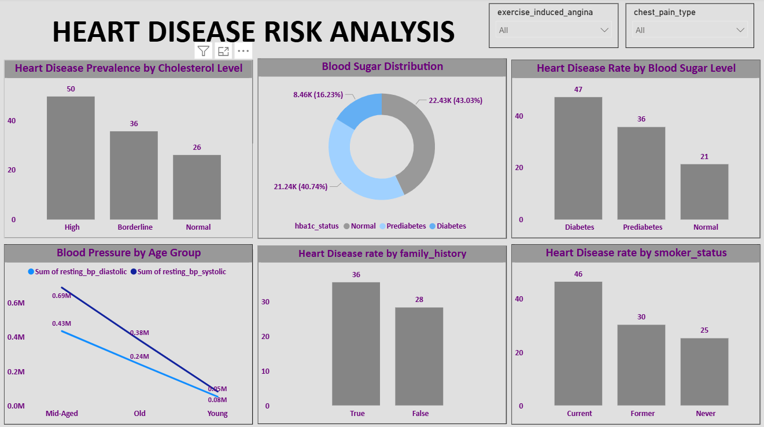

The page's visual inventory and layout, read from the dashboard file:
{"tool":"powerbi","page":{"name":"Page 2","canvas":[1280,720],"ordinal":1},"visuals":[{"type":"donutChart","title":"Blood Sugar Distribution","fields":{"Category":["heart_disease_risk_2026_clean.hba1c_status"],"Y":["Sum(heart_disease_risk_2026_clean.hba1c)"]},"box":[431.9,100.1,415,300.4],"z":0},{"type":"lineChart","title":"Blood Pressure by Age Group","fields":{"Category":["heart_disease_risk_2026_clean.age_group"],"Y":["Sum(heart_disease_risk_2026_clean.resting_bp_diastolic)","Sum(heart_disease_risk_2026_clean.resting_bp_systolic)"]},"box":[8.4,410.2,415,300.4],"z":1000},{"type":"clusteredColumnChart","fields":{"Category":["heart_disease_risk_2026_clean.smoker_status"],"Y":["heart_disease_risk_2026_clean.Heart Disease rate"]},"box":[855.4,410.2,415,300.4],"z":2000},{"type":"clusteredColumnChart","fields":{"Category":["heart_disease_risk_2026_clean.family_history"],"Y":["heart_disease_risk_2026_clean.Heart Disease rate"]},"box":[431.9,412.6,415,298],"z":3000},{"type":"clusteredColumnChart","title":"Heart Disease Rate by Blood Sugar Level","fields":{"Y":["heart_disease_risk_2026_clean.Heart Disease rate"],"Category":["heart_disease_risk_2026_clean.hba1c_status"]},"box":[855.4,102.5,415,298],"z":4000},{"type":"clusteredColumnChart","title":"Heart Disease Prevalence by Cholesterol Level","fields":{"Category":["heart_disease_risk_2026_clean.total cholesterol status"],"Y":["heart_disease_risk_2026_clean.Heart Disease Prevalence"]},"box":[8.4,102.5,415,298],"z":5000},{"type":"textbox","box":[83.2,16.9,746.8,83.2],"z":6000},{"type":"slicer","fields":{"Values":["heart_disease_risk_2026_clean.chest_pain_type"]},"box":[1046,8.4,214.7,74.8],"z":7000},{"type":"slicer","fields":{"Values":["heart_disease_risk_2026_clean.exercise_induced_angina"]},"box":[818,8.4,216,74.8],"z":8000}]}

Visuals, with their boxes in screenshot pixels (x1, y1, x2, y2), scaled from the page's 1280x720 canvas onto the 764x427 screenshot:
"Blood Sugar Distribution" donutChart: (left=258, top=59, right=505, bottom=238)
"Blood Pressure by Age Group" lineChart: (left=5, top=243, right=253, bottom=421)
clusteredColumnChart - heart_disease_risk_2026_clean.smoker_status x heart_disease_risk_2026_clean.Heart Disease rate: (left=511, top=243, right=758, bottom=421)
clusteredColumnChart - heart_disease_risk_2026_clean.family_history x heart_disease_risk_2026_clean.Heart Disease rate: (left=258, top=245, right=505, bottom=421)
"Heart Disease Rate by Blood Sugar Level" clusteredColumnChart: (left=511, top=61, right=758, bottom=238)
"Heart Disease Prevalence by Cholesterol Level" clusteredColumnChart: (left=5, top=61, right=253, bottom=238)
textbox: (left=50, top=10, right=495, bottom=59)
slicer - heart_disease_risk_2026_clean.chest_pain_type: (left=624, top=5, right=752, bottom=49)
slicer - heart_disease_risk_2026_clean.exercise_induced_angina: (left=488, top=5, right=617, bottom=49)
